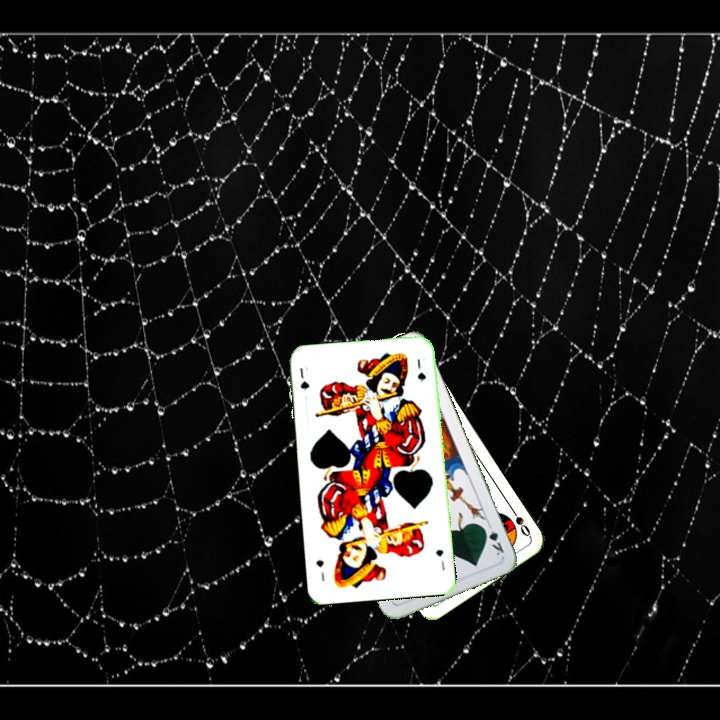GK: (479, 519, 507, 558)
GU: (295, 363, 312, 393), (432, 545, 447, 573)
SO: (506, 503, 533, 539)
